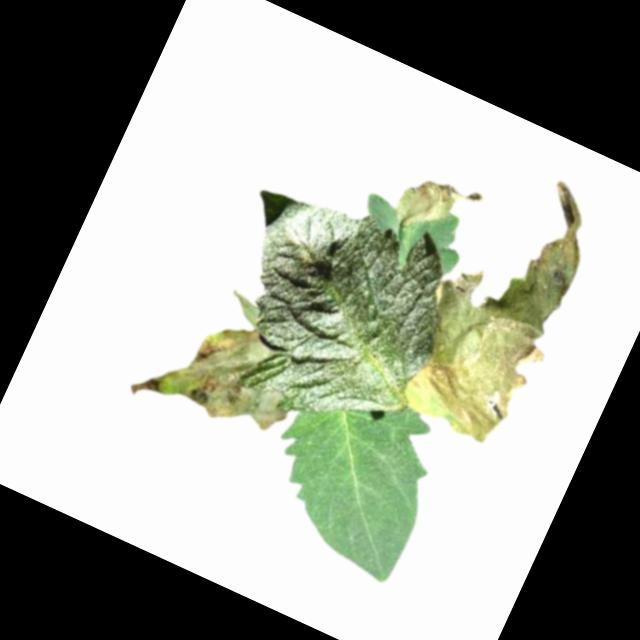Late_blight: (392, 153, 618, 454), (129, 290, 315, 456), (387, 162, 489, 256)
healthy: (180, 163, 475, 456), (243, 365, 459, 585)
